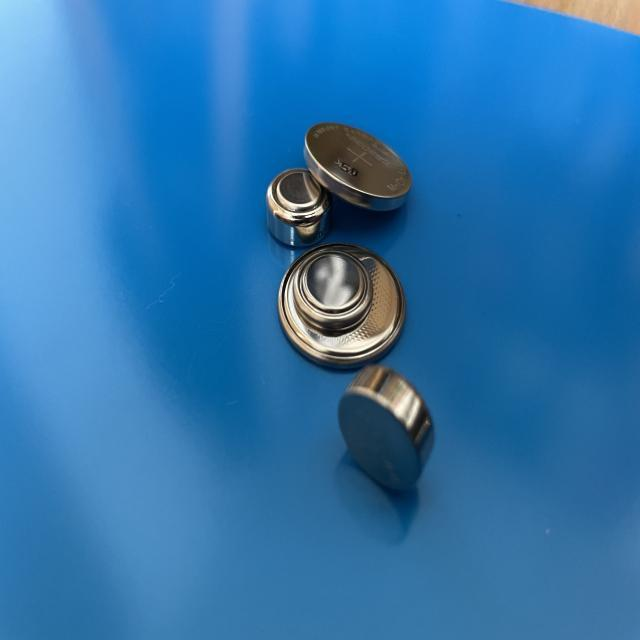COIN: (273, 242, 407, 372), (338, 360, 439, 496), (301, 118, 411, 212), (294, 253, 373, 330), (264, 170, 334, 244)
